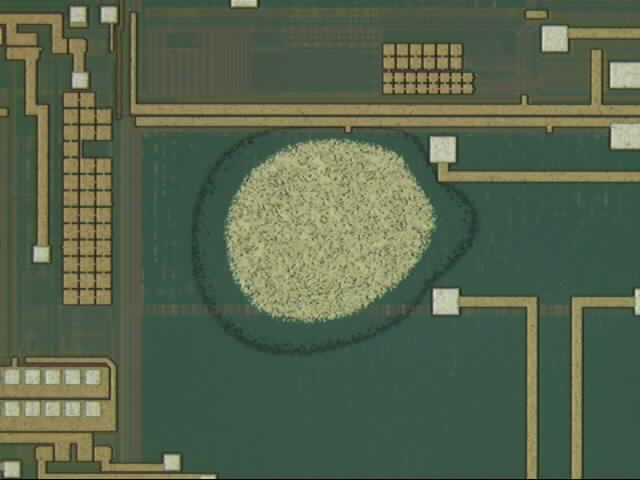BLOCK ETCH: (195, 121, 481, 359)
